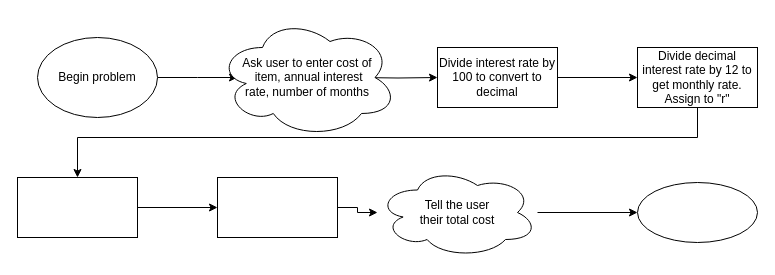
The diagram is 775 pixels wide and 275 high, and some of its shapes have lost their labels. Each missing label, with the box of its shape:
calculate monthly payment: (r * p) / (1 - ( 1 + r) ** -n): (16, 176, 138, 238)
Calculate total cost of car (montly * number of months): (216, 176, 338, 238)
End program: (636, 182, 758, 242)
